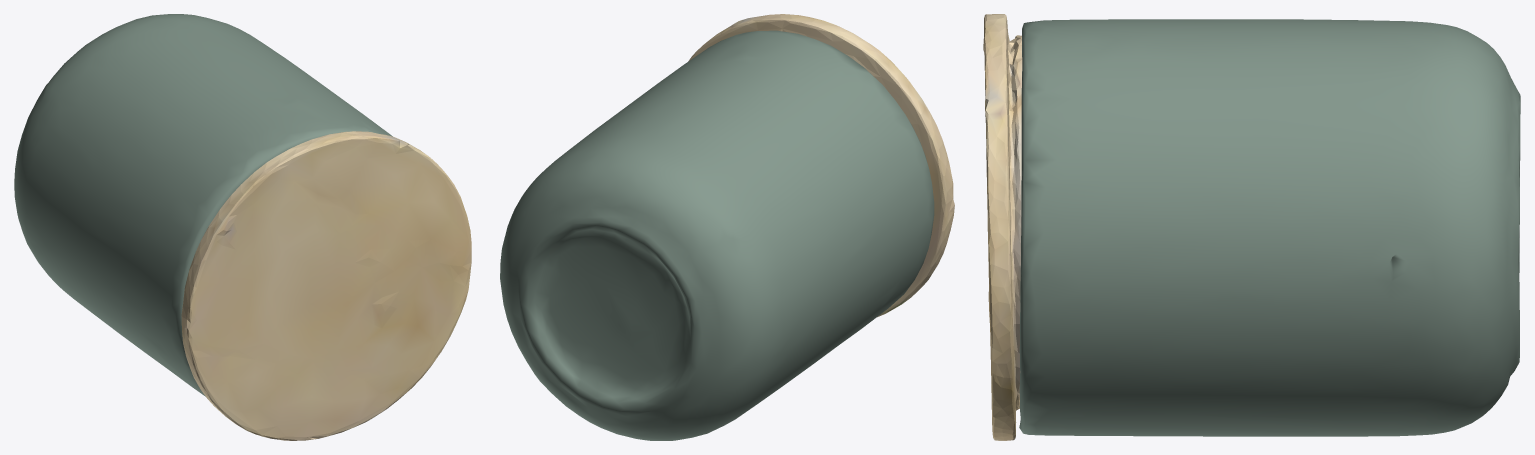
3 views of the same model, side by side, from view 1: azimuth 30°, elevation 25°; view 2: azimuth 150°, elevation 25°; view 3: azimuth 270°, elevation 25° (orthographic). The views are drawn at different scales.
Parts seen in each view (by area): view 1: world; view 2: world; view 3: world.
Boxes of the visible parts, x1=… form: world: x1=14, y1=14, x2=471, y2=440; world: x1=500, y1=14, x2=954, y2=440; world: x1=983, y1=14, x2=1520, y2=440.
Bounding box in the file's own units: 0.1079 × 0.1077 × 0.1354.
